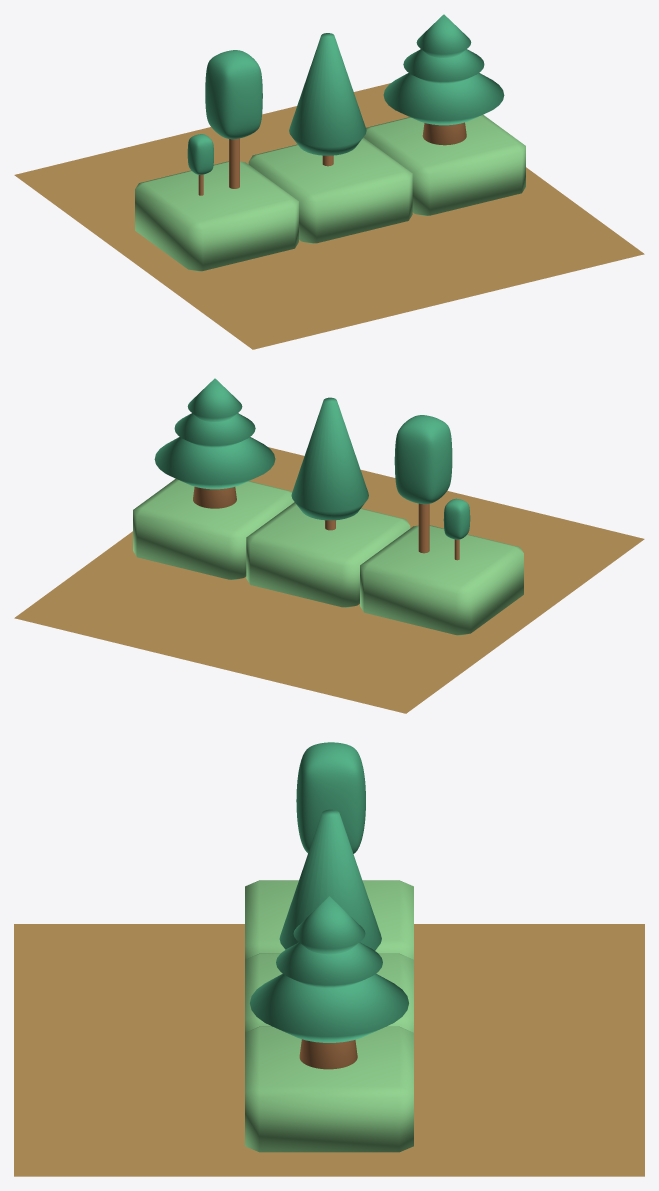
The model's file is modeltest.fbx.
3 views of the same model, one above another, from view 1: azimuth 30°, elevation 25°; view 2: azimuth 150°, elevation 25°; view 3: azimuth 270°, elevation 25° (orthographic). The views are drawn at different scales.
Visible parts, largest first — view 1: Plane, Cube.003, Cube.002, Cube, Cylinder.002, Cone.002, Cube.001, Cone.001, Cone, Cube.004, Cylinder.004, Cylinder.001; view 2: Plane, Cube.003, Cube.002, Cube, Cylinder.002, Cone.002, Cube.001, Cone.001, Cone, Cube.004, Cylinder.004, Cylinder.001; view 3: Plane, Cube, Cone.002, Cylinder.002, Cube.003, Cube.001, Cone.001, Cube.002, Cone, Cylinder.004.
Boxes of the visible parts, <box> form: Plane: <box>14,83,644,349</box>; Cube.003: <box>135,161,298,271</box>; Cube.002: <box>248,137,412,243</box>; Cube: <box>363,115,525,215</box>; Cylinder.002: <box>289,33,366,155</box>; Cone.002: <box>383,73,504,125</box>; Cube.001: <box>205,50,262,139</box>; Cone.001: <box>403,49,484,83</box>; Cone: <box>416,14,471,57</box>; Cube.004: <box>187,134,213,174</box>; Cylinder.004: <box>422,122,466,145</box>; Cylinder.001: <box>229,138,239,188</box>; Plane: <box>14,447,644,713</box>; Cube.003: <box>360,525,523,635</box>; Cube.002: <box>246,502,410,607</box>; Cube: <box>133,479,294,579</box>; Cylinder.002: <box>291,397,368,520</box>; Cone.002: <box>154,437,275,489</box>; Cube.001: <box>394,415,452,504</box>; Cone.001: <box>174,413,255,447</box>; Cone: <box>187,378,242,421</box>; Cube.004: <box>443,498,470,539</box>; Cylinder.004: <box>193,487,236,508</box>; Cylinder.001: <box>418,503,429,553</box>; Plane: <box>14,924,644,1176</box>; Cube: <box>245,1026,413,1152</box>; Cone.002: <box>250,973,408,1042</box>; Cylinder.002: <box>279,809,381,950</box>; Cube.003: <box>245,880,413,959</box>; Cube.001: <box>296,742,365,853</box>; Cone.001: <box>276,942,382,988</box>; Cube.002: <box>245,953,413,1032</box>; Cone: <box>293,896,365,954</box>; Cylinder.004: <box>299,1039,357,1069</box>.
Bounding box in the file's own units: 1660 × 743 × 1752.
